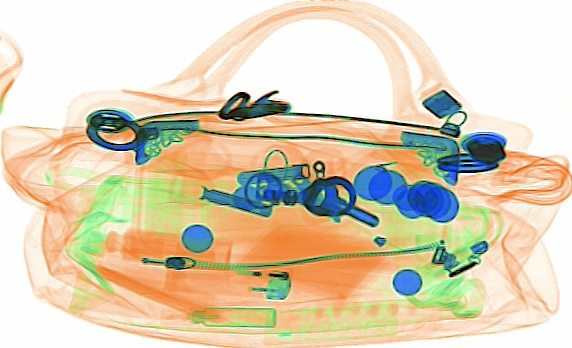lighter: (162, 259, 294, 301)
